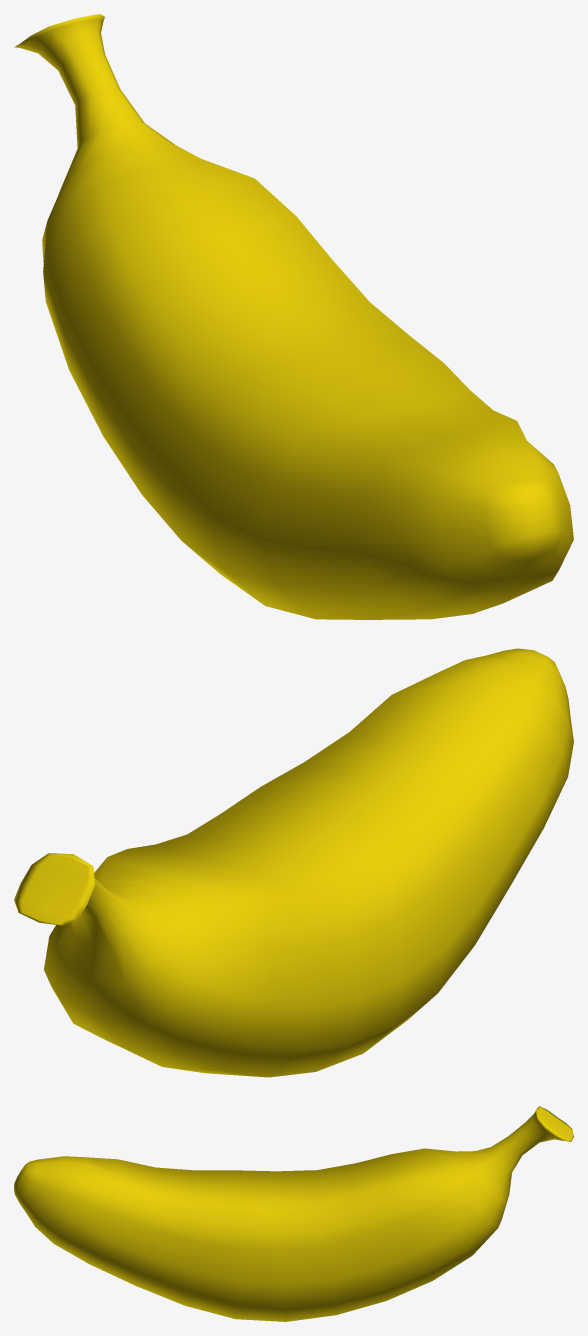
The model's file is banana.fbx.
3 views of the same model, one above another, from view 1: azimuth 30°, elevation 25°; view 2: azimuth 150°, elevation 25°; view 3: azimuth 270°, elevation 25° (orthographic). The views are drawn at different scales.
Parts seen in each view (by area): view 1: banana; view 2: banana; view 3: banana.
Part boxes in pixels (x1=…): banana: x1=14, y1=14, x2=573, y2=619; banana: x1=14, y1=648, x2=573, y2=1077; banana: x1=14, y1=1106, x2=573, y2=1321.
Size of the model in its own units: 324 by 470 by 1173.
